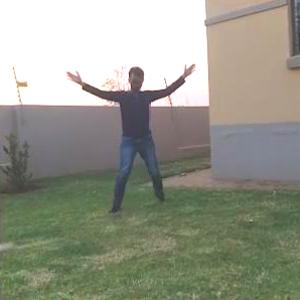takeoff: (49, 42, 189, 208)
